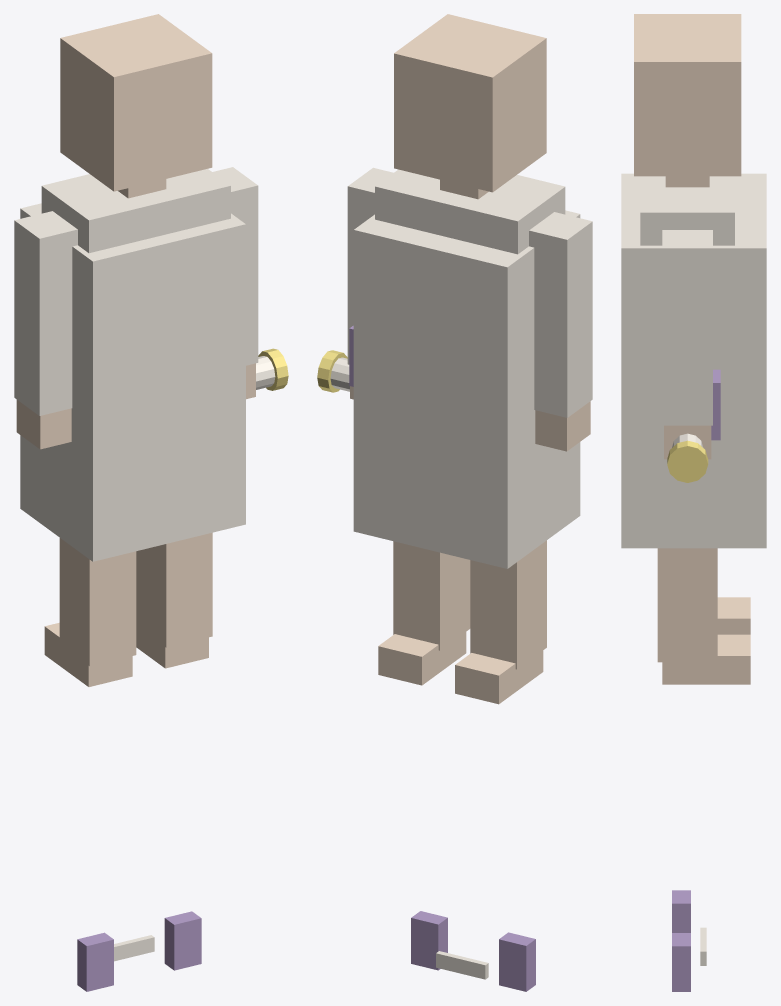
Rendered from calliope.glb.
3 renders of one model, left to right at view 1: azimuth 30°, elevation 25°; view 2: azimuth 150°, elevation 25°; view 3: azimuth 270°, elevation 25°, orthographic.
Parts seen in each view (by area): view 1: outfit_tunic_0, head, arm_L_upper, torso, leg_L_shin, leg_R_shin, arm_R_upper, leg_L_foot, outfit_sandals_1, outfit_sandals_0, arm_L_hand, leg_R_foot (+2 smaller); view 2: outfit_tunic_0, head, arm_L_upper, torso, leg_L_shin, leg_R_shin, leg_L_foot, leg_R_foot, arm_R_upper, outfit_sandals_0, arm_L_hand, outfit_sandals_1 (+2 smaller); view 3: outfit_tunic_0, head, arm_R_upper, leg_R_shin, torso, leg_R_foot, prop, leg_L_foot, outfit_sandals_1, arm_R_hand, outfit_sandals_0, outfit_bag_0 (+1 smaller).
Boxes of the visible parts, bbox=[...] form: outfit_tunic_0: bbox=[20, 203, 245, 561]; head: bbox=[60, 14, 212, 191]; arm_L_upper: bbox=[14, 211, 77, 415]; torso: bbox=[41, 168, 230, 253]; leg_L_shin: bbox=[59, 538, 136, 666]; leg_R_shin: bbox=[136, 532, 212, 647]; arm_R_upper: bbox=[212, 167, 258, 365]; leg_L_foot: bbox=[44, 622, 132, 686]; outfit_sandals_1: bbox=[164, 911, 201, 970]; outfit_sandals_0: bbox=[77, 932, 113, 991]; arm_L_hand: bbox=[16, 399, 71, 449]; leg_R_foot: bbox=[136, 626, 208, 668]; outfit_tunic_0: bbox=[353, 210, 580, 568]; head: bbox=[394, 14, 546, 192]; arm_L_upper: bbox=[529, 212, 592, 417]; torso: bbox=[375, 169, 565, 254]; leg_L_shin: bbox=[470, 540, 546, 669]; leg_R_shin: bbox=[393, 541, 470, 650]; leg_L_foot: bbox=[455, 650, 543, 704]; leg_R_foot: bbox=[378, 632, 466, 685]; arm_R_upper: bbox=[347, 167, 393, 364]; outfit_sandals_0: bbox=[499, 932, 535, 991]; arm_L_hand: bbox=[535, 401, 590, 451]; outfit_sandals_1: bbox=[411, 911, 447, 970]; outfit_tunic_0: bbox=[621, 173, 766, 548]; head: bbox=[634, 14, 741, 176]; arm_R_upper: bbox=[662, 230, 712, 425]; leg_R_shin: bbox=[657, 548, 717, 662]; torso: bbox=[640, 176, 734, 245]; leg_R_foot: bbox=[662, 634, 750, 684]; prop: bbox=[667, 433, 708, 482]; leg_L_foot: bbox=[717, 597, 750, 634]; outfit_sandals_1: bbox=[672, 933, 690, 991]; arm_R_hand: bbox=[664, 425, 711, 459]; outfit_sandals_0: bbox=[672, 890, 690, 932]; outfit_bag_0: bbox=[711, 369, 720, 440].
Size of the model in its own units: 0.92 by 3.24 by 0.46.
